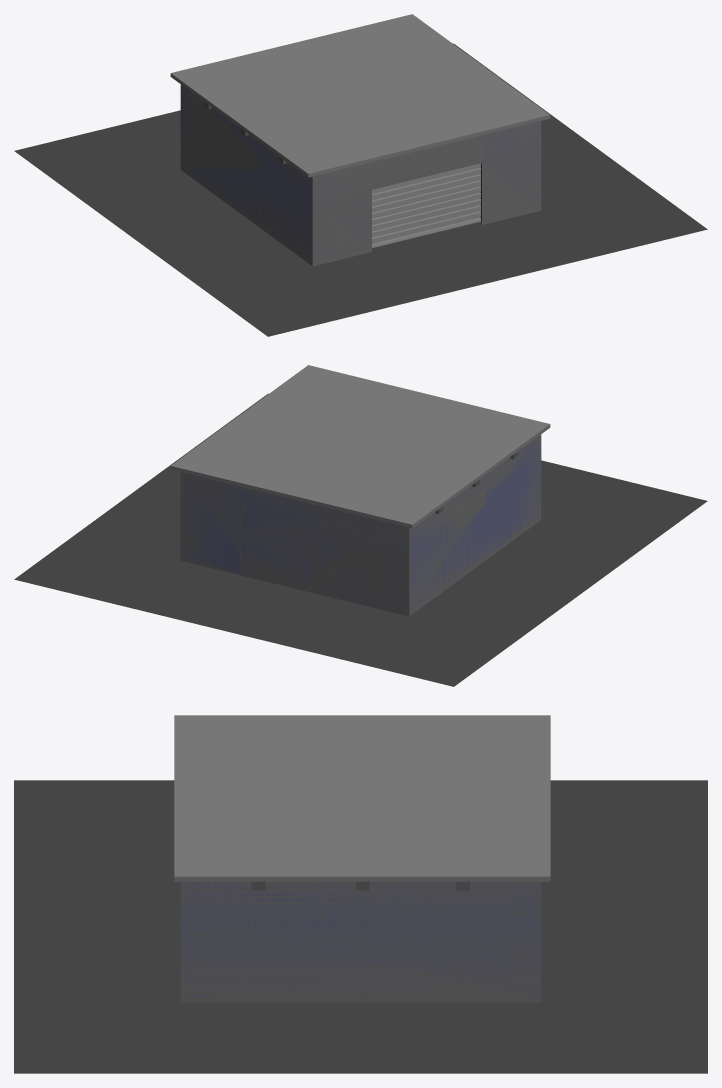
The model's file is Garage.fbx.
The picture shows the model from 3 angles, top to bottom: view 1: azimuth 30°, elevation 25°; view 2: azimuth 150°, elevation 25°; view 3: azimuth 270°, elevation 25°; orthographic projection. The views are drawn at different scales.
Parts seen in each view (by area): view 1: Garage_03a, Ground, Garage_01a, Garage_Gate_01a; view 2: Garage_03a, Ground, Garage_01a; view 3: Ground, Garage_03a, Garage_01a.
Boxes of the visible parts, x1=… form: Garage_03a: x1=170, y1=14, x2=550, y2=266; Ground: x1=14, y1=43, x2=707, y2=336; Garage_01a: x1=172, y1=73, x2=549, y2=261; Garage_Gate_01a: x1=372, y1=163, x2=481, y2=251; Garage_03a: x1=170, y1=365, x2=550, y2=616; Ground: x1=14, y1=393, x2=707, y2=686; Garage_01a: x1=180, y1=365, x2=548, y2=614; Ground: x1=14, y1=780, x2=707, y2=1073; Garage_03a: x1=174, y1=715, x2=550, y2=1002; Garage_01a: x1=174, y1=716, x2=546, y2=996.
Bounding box in the file's own units: 20 × 4.16 × 20.
